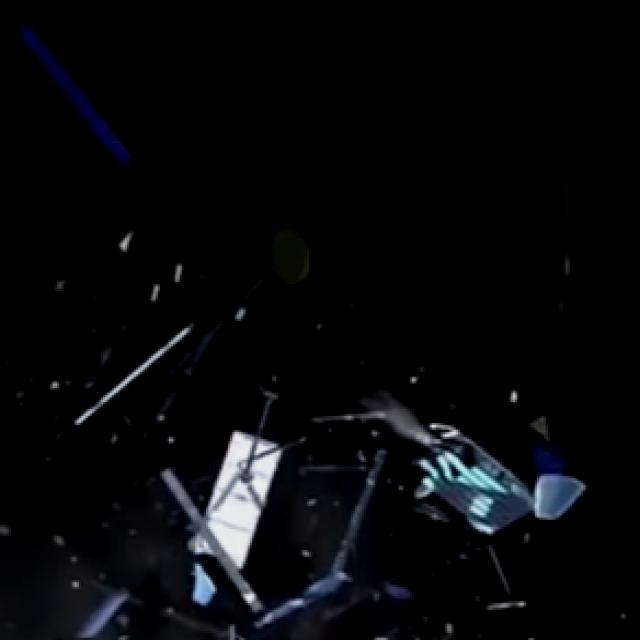large_debris: (341, 360, 593, 591), (166, 376, 316, 637), (16, 15, 160, 188)
small_debris: (303, 308, 335, 346), (115, 223, 146, 259), (170, 256, 199, 291), (398, 361, 426, 396), (502, 382, 531, 412), (233, 303, 259, 336), (290, 544, 323, 570), (63, 573, 92, 600), (161, 422, 180, 459), (560, 259, 581, 292), (47, 373, 72, 400), (106, 426, 128, 455), (143, 281, 168, 306), (7, 382, 31, 406), (50, 277, 76, 299), (51, 528, 73, 553), (0, 523, 22, 542), (440, 618, 460, 636), (115, 626, 137, 640), (616, 612, 632, 628)
